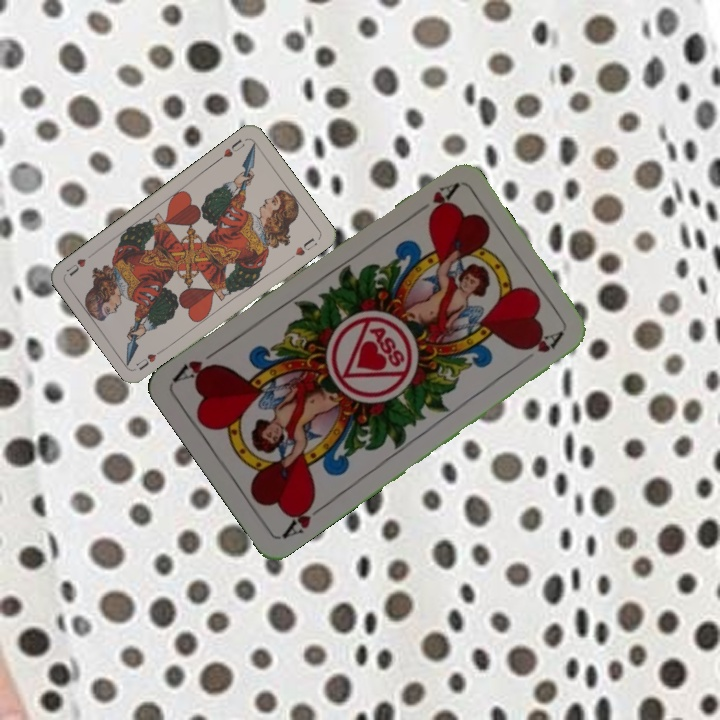HA: (278, 493, 329, 541), (408, 179, 460, 220)
HU: (132, 344, 168, 373), (214, 135, 247, 164)
